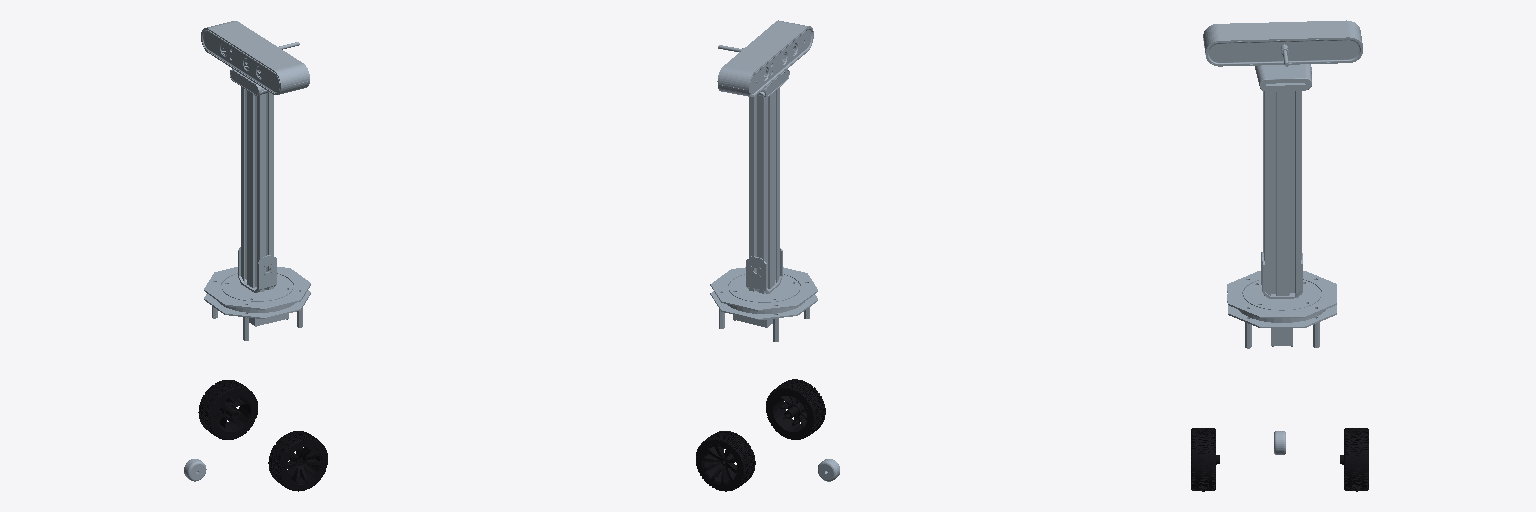
robot.urdf — robowheels:
<?xml version='1.0' encoding='utf-8'?>
<robot name="robowheels">
  <link name="base_footprint" />
  <joint name="base_footprint_joint" type="fixed">
    <parent link="base_footprint" />
    <child link="base_link" />
    <origin xyz="0 0 0.0332" />
  </joint>
  <link name="base_link">
    <visual>
      <geometry>
        <mesh filename="package://robowheels_description/meshes/base_link.stl" />
      </geometry>
      <material name="base_link_material">
        <color rgba="0.65 0.7 0.75 1" />
      </material>
    </visual>
    <inertial>
      <origin xyz="-0.0318259535 3.65871519e-05 0.0604680357" />
      <mass value="1.8" />
      <inertia ixx="0.00996234786066134" iyy="0.010731749977905014" izz="0.011715397882756337" ixy="0" ixz="0" iyz="0" />
    </inertial>
    <collision name="base_link_collision">
      <origin xyz="-0.0318259535 3.65871519e-05 0.0604680357" />
      <geometry>
        <box size="0.204 0.191014797 0.173" />
      </geometry>
    </collision>
  </link>
  <gazebo reference="base_link">
    <mu1>0.8</mu1>
    <mu2>0.8</mu2>
  </gazebo>
  <link name="mast_link">
    <visual>
      <geometry>
        <mesh filename="package://robowheels_description/meshes/mast_link.stl" />
      </geometry>
      <material name="mast_link_material">
        <color rgba="0.65 0.7 0.75 1" />
      </material>
    </visual>
    <inertial>
      <origin xyz="0 0 0" />
      <mass value="0.15" />
      <inertia ixx="0.0008022936571966947" iyy="0.0007874616086122587" izz="2.7255265808507982e-05" ixy="0" ixz="0" iyz="0" />
    </inertial>
    <collision name="mast_link_collision">
      <origin xyz="0 0 0" />
      <geometry>
        <box size="0.0222918974 0.041030386 0.25" />
      </geometry>
    </collision>
  </link>
  <joint name="mast_joint" type="fixed">
    <parent link="base_link" />
    <child link="mast_link" />
    <origin xyz="-0.00625268749 0.00269514236 0.315288035" />
  </joint>
  <gazebo reference="mast_link">
    <mu1>0.8</mu1>
    <mu2>0.8</mu2>
  </gazebo>
  <link name="arm_mount_link">
    <visual>
      <geometry>
        <mesh filename="package://robowheels_description/meshes/arm_mount_link.stl" />
      </geometry>
      <material name="arm_mount_link_material">
        <color rgba="0.65 0.7 0.75 1" />
      </material>
    </visual>
    <inertial>
      <origin xyz="0 0 0" />
      <mass value="0.3" />
      <inertia ixx="0.000551753377151742" iyy="0.0005517533771518032" izz="0.0006540599493033816" ixy="0" ixz="0" iyz="0" />
    </inertial>
    <collision name="arm_mount_link_collision">
      <origin xyz="0 0 0" />
      <geometry>
        <box size="0.114373069 0.114373069 0.09481" />
      </geometry>
    </collision>
  </link>
  <joint name="arm_mount_joint" type="fixed">
    <parent link="base_link" />
    <child link="arm_mount_link" />
    <origin xyz="-0.00637300074 0.0023598377 0.186523035" />
  </joint>
  <gazebo reference="arm_mount_link">
    <mu1>0.8</mu1>
    <mu2>0.8</mu2>
  </gazebo>
  <link name="right_arm_link">
    <visual>
      <geometry>
        <mesh filename="package://robowheels_description/meshes/right_arm_link.stl" />
      </geometry>
      <material name="right_arm_link_material">
        <color rgba="0.65 0.7 0.75 1" />
      </material>
    </visual>
    <inertial>
      <origin xyz="0 0 0" />
      <mass value="0.6" />
      <inertia ixx="0.005273131365345715" iyy="0.002288099321798799" izz="0.003488890433555441" ixy="0" ixz="0" iyz="0" />
    </inertial>
    <collision name="right_arm_link_collision">
      <origin xyz="0 0 0" />
      <geometry>
        <box size="0.0709829832 0.254439039 0.201800403" />
      </geometry>
    </collision>
  </link>
  <joint name="right_arm_joint" type="fixed">
    <parent link="base_link" />
    <child link="right_arm_link" />
    <origin xyz="0.0098113317 -0.139122875 0.312162959" />
  </joint>
  <gazebo reference="right_arm_link">
    <mu1>0.8</mu1>
    <mu2>0.8</mu2>
  </gazebo>
  <link name="left_arm_link">
    <visual>
      <geometry>
        <mesh filename="package://robowheels_description/meshes/left_arm_link.stl" />
      </geometry>
      <material name="left_arm_link_material">
        <color rgba="0.65 0.7 0.75 1" />
      </material>
    </visual>
    <inertial>
      <origin xyz="0 0 0" />
      <mass value="0.6" />
      <inertia ixx="0.005273131365348482" iyy="0.002288099321798492" izz="0.0034888904335580585" ixy="0" ixz="0" iyz="0" />
    </inertial>
    <collision name="left_arm_link_collision">
      <origin xyz="0 0 0" />
      <geometry>
        <box size="0.0709829832 0.254439039 0.201800403" />
      </geometry>
    </collision>
  </link>
  <joint name="left_arm_joint" type="fixed">
    <parent link="base_link" />
    <child link="left_arm_link" />
    <origin xyz="-0.0219609873 0.144534971 0.312162959" />
  </joint>
  <gazebo reference="left_arm_link">
    <mu1>0.8</mu1>
    <mu2>0.8</mu2>
  </gazebo>
  <link name="astra_link">
    <visual>
      <geometry>
        <mesh filename="package://robowheels_description/meshes/astra_link.stl" />
      </geometry>
      <material name="astra_link_material">
        <color rgba="0.65 0.7 0.75 1" />
      </material>
    </visual>
    <inertial>
      <origin xyz="0 0 0" />
      <mass value="0.3" />
      <inertia ixx="0.0007600693162909078" iyy="0.0002396586653657222" izz="0.000873908195797151" ixy="0" ixz="0" iyz="0" />
    </inertial>
    <collision name="astra_link_collision">
      <origin xyz="0 0 0" />
      <geometry>
        <box size="0.0840830001 0.166992146 0.0501636892" />
      </geometry>
    </collision>
  </link>
  <joint name="astra_joint" type="fixed">
    <parent link="base_link" />
    <child link="astra_link" />
    <origin xyz="0.00857200063 0.00332180294 0.46536978" />
  </joint>
  <gazebo reference="astra_link">
    <mu1>0.8</mu1>
    <mu2>0.8</mu2>
  </gazebo>
  <link name="left_wheel_link">
    <visual>
      <geometry>
        <mesh filename="package://robowheels_description/meshes/left_wheel_link.stl" />
      </geometry>
      <material name="left_wheel_link_material">
        <color rgba="0.12 0.12 0.14 1" />
      </material>
    </visual>
    <inertial>
      <origin xyz="-3.6370024e-10 -0.000586149315 1.99372303e-10" />
      <mass value="0.08" />
      <inertia ixx="3.5456330816517186e-05" iyy="5.871981289641652e-05" izz="3.545633081652129e-05" ixy="0" ixz="0" iyz="0" />
    </inertial>
    <collision name="left_wheel_link_collision">
      <origin rpy="1.5707963267948966 0 0" />
      <geometry>
        <cylinder radius="0.0332" length="0.026" />
      </geometry>
    </collision>
  </link>
  <joint name="left_wheel_joint" type="continuous">
    <parent link="base_link" />
    <child link="left_wheel_link" />
    <origin xyz="0 0.0781561955 0" />
    <axis xyz="0 1 0" />
    <limit effort="2" velocity="20" />
    <dynamics damping="0.01" friction="0" />
  </joint>
  <gazebo reference="left_wheel_link">
    <mu1>0.8</mu1>
    <mu2>0.8</mu2>
  </gazebo>
  <link name="right_wheel_link">
    <visual>
      <geometry>
        <mesh filename="package://robowheels_description/meshes/right_wheel_link.stl" />
      </geometry>
      <material name="right_wheel_link_material">
        <color rgba="0.12 0.12 0.14 1" />
      </material>
    </visual>
    <inertial>
      <origin xyz="2.94291862e-10 0.000586141681 2.00216441e-10" />
      <mass value="0.08" />
      <inertia ixx="3.545633081652782e-05" iyy="5.8719812896417204e-05" izz="3.545633081652472e-05" ixy="0" ixz="0" iyz="0" />
    </inertial>
    <collision name="right_wheel_link_collision">
      <origin rpy="1.5707963267948966 0 0" />
      <geometry>
        <cylinder radius="0.0332" length="0.026" />
      </geometry>
    </collision>
  </link>
  <joint name="right_wheel_joint" type="continuous">
    <parent link="base_link" />
    <child link="right_wheel_link" />
    <origin xyz="0 -0.0781561955 0" />
    <axis xyz="0 1 0" />
    <limit effort="2" velocity="20" />
    <dynamics damping="0.01" friction="0" />
  </joint>
  <gazebo reference="right_wheel_link">
    <mu1>0.8</mu1>
    <mu2>0.8</mu2>
  </gazebo>
  <link name="caster_link">
    <visual>
      <geometry>
        <mesh filename="package://robowheels_description/meshes/caster_link.stl" />
      </geometry>
      <material name="caster_link_material">
        <color rgba="0.65 0.7 0.75 1" />
      </material>
    </visual>
    <inertial>
      <origin xyz="0 0 0" />
      <mass value="0.03" />
      <inertia ixx="1.9850315052214744e-06" iyy="3.125050003812256e-06" izz="1.985031508830174e-06" ixy="0" ixz="0" iyz="0" />
    </inertial>
    <collision name="caster_link_collision">
      <origin xyz="0 0 0.00183196408" />
      <geometry>
        <sphere radius="0.0125" />
      </geometry>
    </collision>
  </link>
  <joint name="caster_joint" type="fixed">
    <parent link="base_link" />
    <child link="caster_link" />
    <origin xyz="-0.0896517601 0.00013640945 -0.0225319641" />
  </joint>
  <gazebo reference="caster_link">
    <mu1>0.01</mu1>
    <mu2>0.01</mu2>
  </gazebo>
  <gazebo>
    <plugin filename="libignition-gazebo-diff-drive-system.so" name="ignition::gazebo::systems::DiffDrive">
      <left_joint>left_wheel_joint</left_joint>
      <right_joint>right_wheel_joint</right_joint>
      <wheel_separation>0.15631239107433037</wheel_separation>
      <wheel_radius>0.0332</wheel_radius>
      <topic>/sim/cmd_vel</topic>
      <odom_topic>/odom</odom_topic>
      <tf_topic>/tf</tf_topic>
      <frame_id>odom</frame_id>
      <child_frame_id>base_footprint</child_frame_id>
      <odom_publish_frequency>50</odom_publish_frequency>
      <max_linear_velocity>0.5</max_linear_velocity>
      <min_linear_velocity>-0.5</min_linear_velocity>
      <max_angular_velocity>2.0</max_angular_velocity>
      <min_angular_velocity>-2.0</min_angular_velocity>
    </plugin>
    <plugin filename="libignition-gazebo-joint-state-publisher-system.so" name="ignition::gazebo::systems::JointStatePublisher">
      <topic>/joint_states</topic>
      <joint_name>left_wheel_joint</joint_name>
      <joint_name>right_wheel_joint</joint_name>
    </plugin>
  </gazebo>
  <gazebo>
    <plugin filename="libignition-gazebo-pose-publisher-system.so" name="ignition::gazebo::systems::PosePublisher">
      <publish_model_pose>true</publish_model_pose>
      <publish_link_pose>false</publish_link_pose>
      <use_pose_vector_msg>true</use_pose_vector_msg>
      <update_frequency>30</update_frequency>
      <publish_nested_model_pose>true</publish_nested_model_pose>
    </plugin>
  </gazebo>
</robot>

--- Facts derived from the render (not from the file) ---
The picture shows the robot from 3 angles, left to right: view 1: azimuth 30°, elevation 25°; view 2: azimuth 150°, elevation 25°; view 3: azimuth 270°, elevation 25°; orthographic projection.
Model robowheels with 10 links and 9 joints (2 continuous, 7 fixed), rooted at base_footprint, posed all joints at 0.
Links seen in each view (by area): view 1: mast_link, arm_mount_link, astra_link, right_wheel_link, left_wheel_link; view 2: mast_link, arm_mount_link, astra_link, right_wheel_link, left_wheel_link; view 3: astra_link, mast_link, arm_mount_link, left_wheel_link, right_wheel_link.
Link boxes in pixels (x1,y1,x2,y2): mast_link: (241,87,273,291); arm_mount_link: (204,247,310,340); astra_link: (201,21,309,95); right_wheel_link: (268,431,327,491); left_wheel_link: (198,380,257,439); mast_link: (749,87,779,293); arm_mount_link: (710,248,817,341); astra_link: (717,20,813,96); right_wheel_link: (766,379,825,439); left_wheel_link: (696,431,755,491); astra_link: (1203,20,1362,91); mast_link: (1263,91,1301,295); arm_mount_link: (1227,252,1336,348); left_wheel_link: (1340,428,1368,491); right_wheel_link: (1191,428,1219,491).
Bounding box of the posed robot: 0.153 × 0.1854 × 0.5255 m (x, y, z).
Meshes: 9 distinct files referenced, 6 mesh visuals loaded (6 binary STL); not drawn: 3 (reference not matched to a file when rendering).
